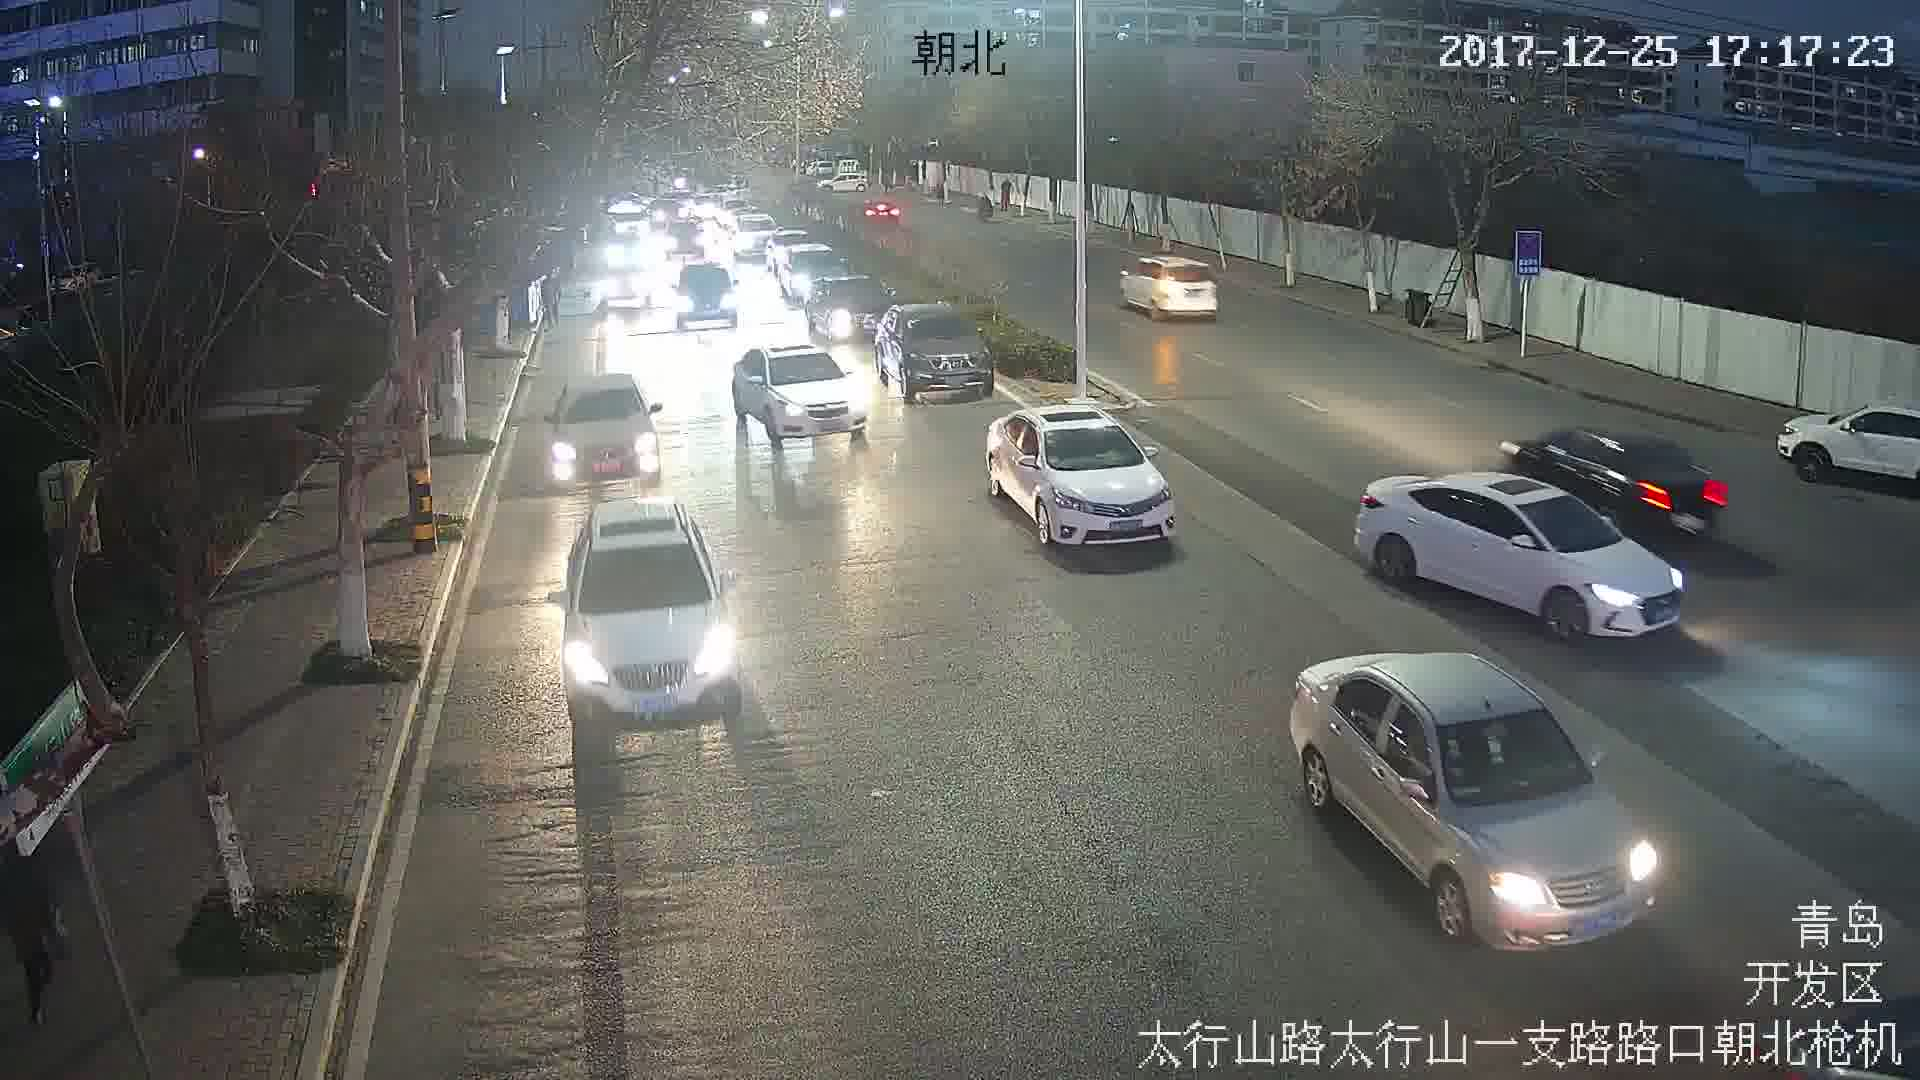car: (1288, 649, 1659, 946), (1352, 471, 1685, 638), (542, 506, 752, 727), (988, 409, 1185, 550), (1512, 420, 1734, 537), (543, 374, 664, 481), (734, 352, 864, 444), (875, 307, 999, 402), (1118, 255, 1221, 321), (806, 271, 899, 341)
